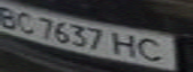3: (66, 22, 87, 50)
6: (51, 19, 72, 46)
7: (84, 26, 109, 53), (33, 15, 57, 42)
B: (0, 2, 21, 30)
C: (133, 35, 178, 64), (12, 9, 39, 35)
H: (112, 30, 142, 59)
